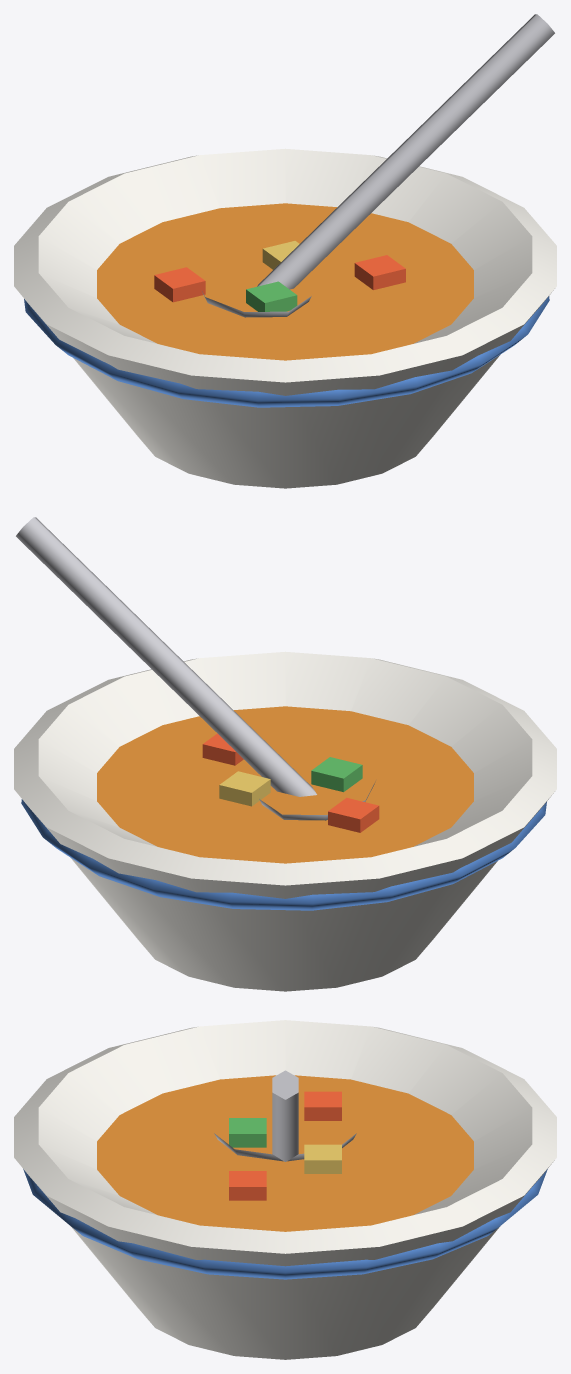
File: soup_bowl.glb
The picture shows the model from 3 angles, top to bottom: view 1: azimuth 30°, elevation 25°; view 2: azimuth 150°, elevation 25°; view 3: azimuth 270°, elevation 25°; orthographic projection.
Visible parts, largest first — view 1: main, soup; view 2: main, soup; view 3: main, soup.
Part boxes in pixels (x1,y1,x2,y2): main: (14,14,556,488); soup: (97,203,473,360); main: (14,517,556,991); soup: (97,706,473,863); main: (14,1020,556,1359); soup: (97,1075,473,1231).
Size of the model in its own units: 0.2331 by 0.1537 by 0.2167.
